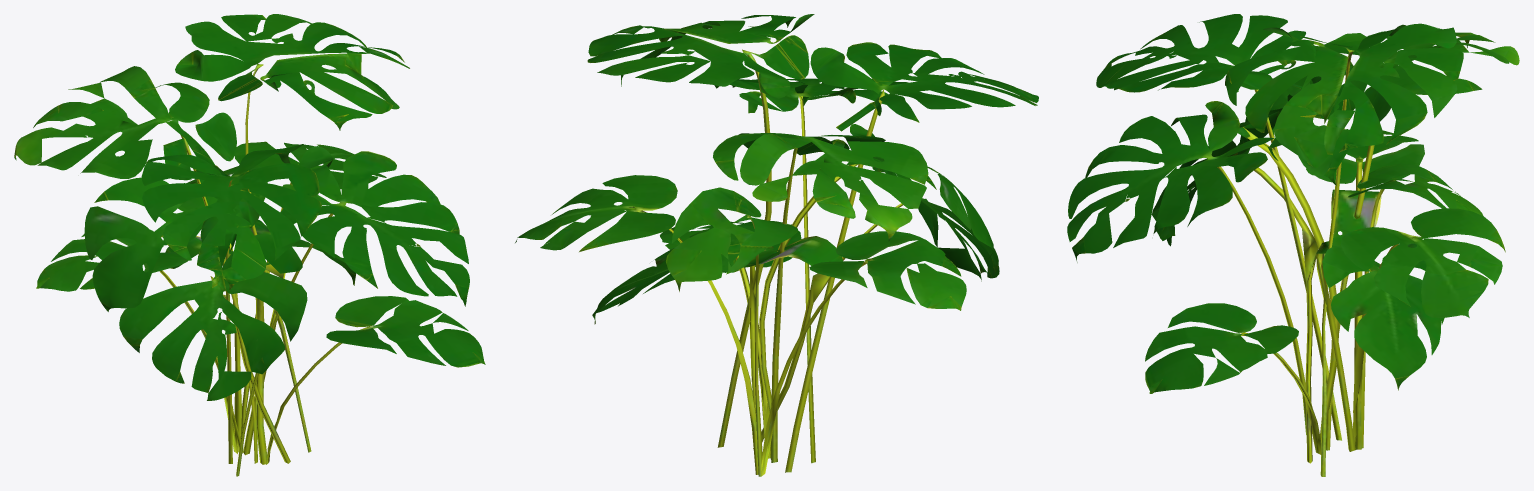
Rendered from monsteraplant_2.lite.glb.
The picture shows the model from 3 angles, left to right: view 1: azimuth 30°, elevation 25°; view 2: azimuth 150°, elevation 25°; view 3: azimuth 270°, elevation 25°; orthographic projection. The views are drawn at different scales.
Parts seen in each view (by area): view 1: model; view 2: model; view 3: model.
Boxes of the visible parts, x1,y1,x2,y2 form: model: (14,14,485,476); model: (515,14,1038,476); model: (1067,14,1519,476).
Size of the model in its own units: 0.9761 by 0.9995 by 0.9761.
Materials: 1 (1 with a texture image).
